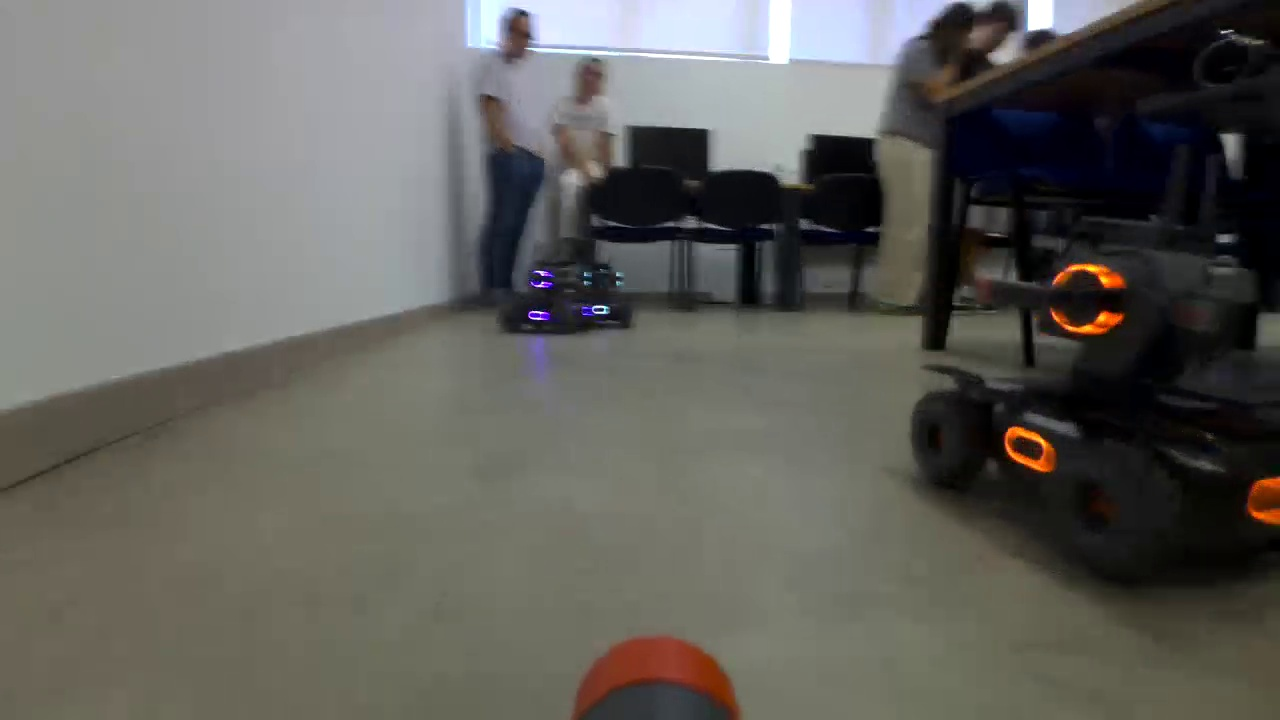robot: (935, 240, 1250, 595), (570, 257, 633, 337), (506, 255, 561, 327)
